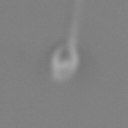normal: (64, 1, 85, 42)
